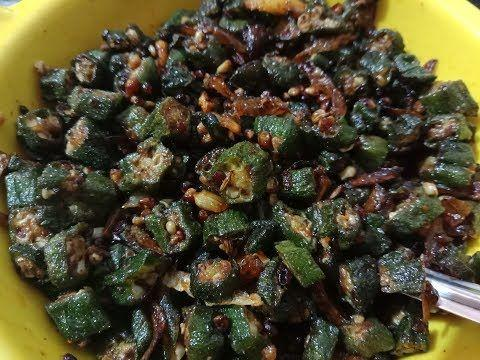bhindi: (37, 59, 392, 360)
